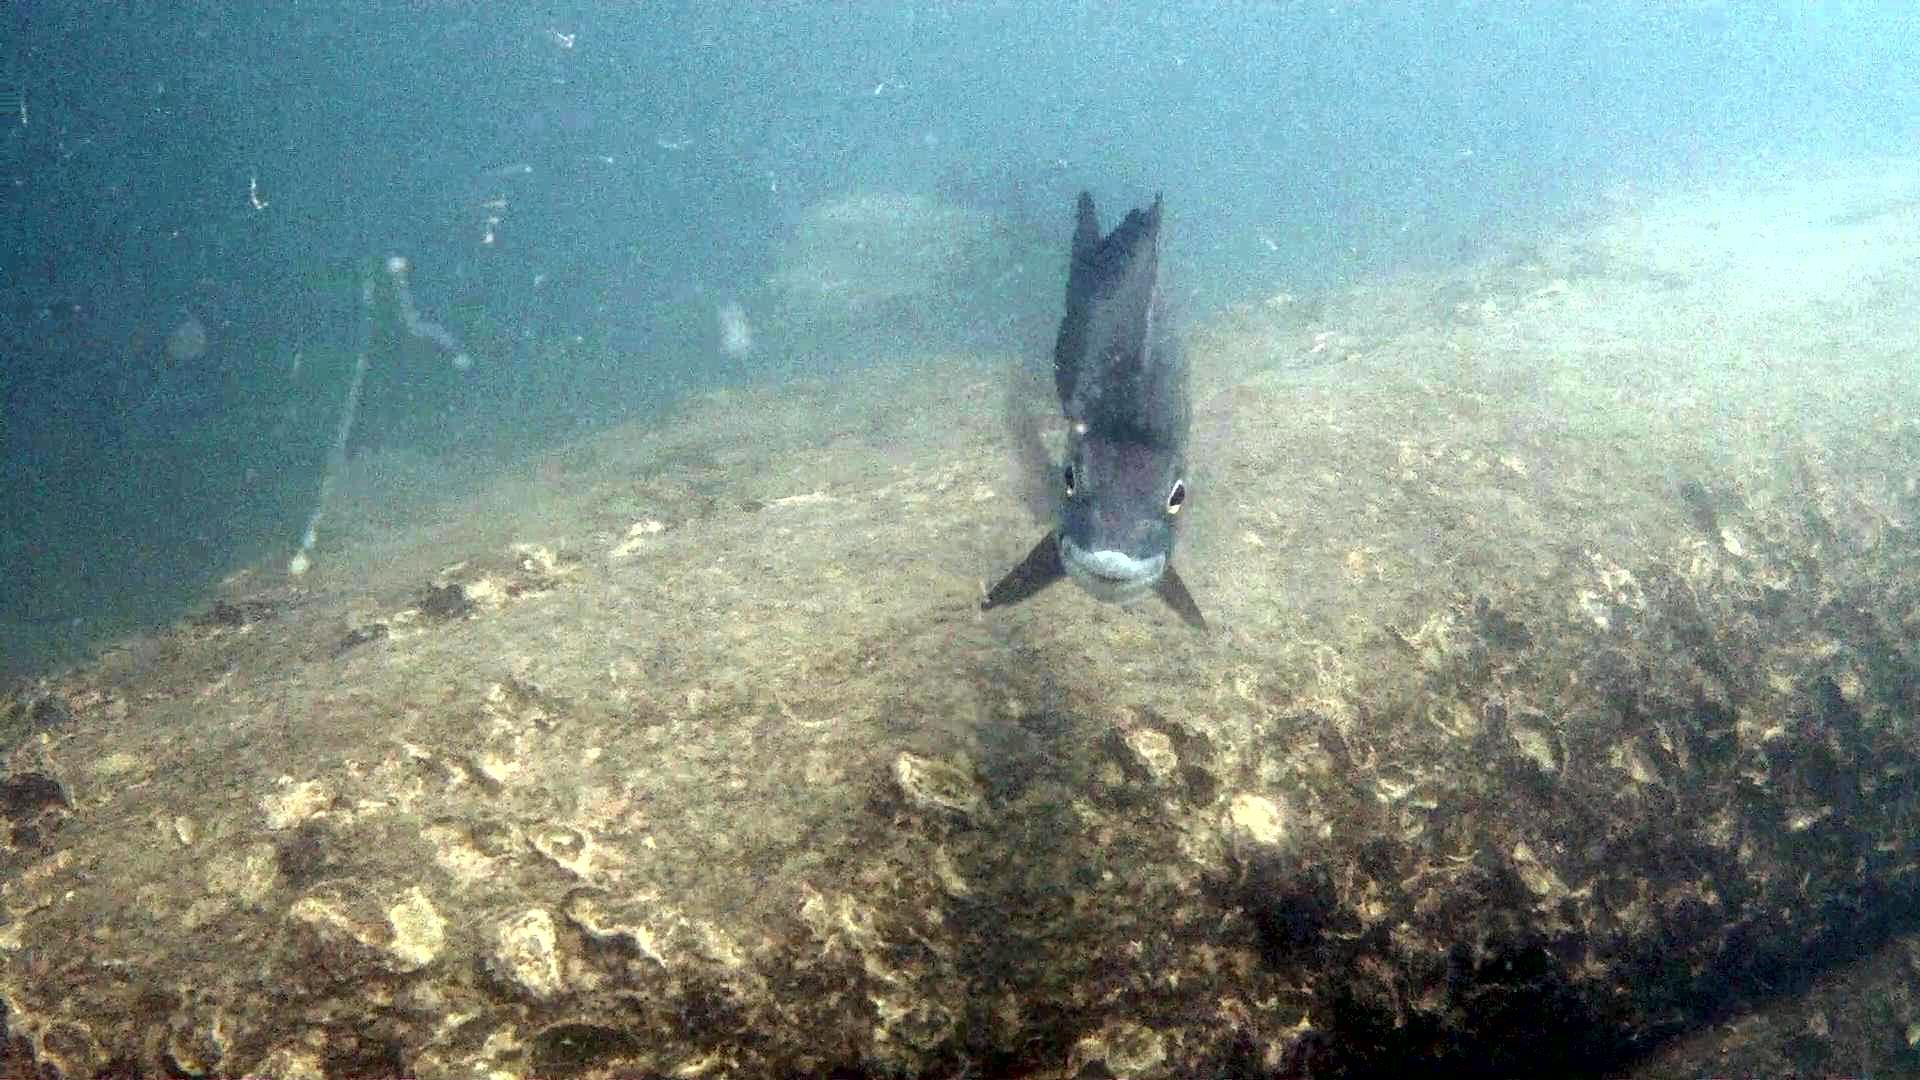acanthopagrus palmaris: (971, 181, 1220, 650)
